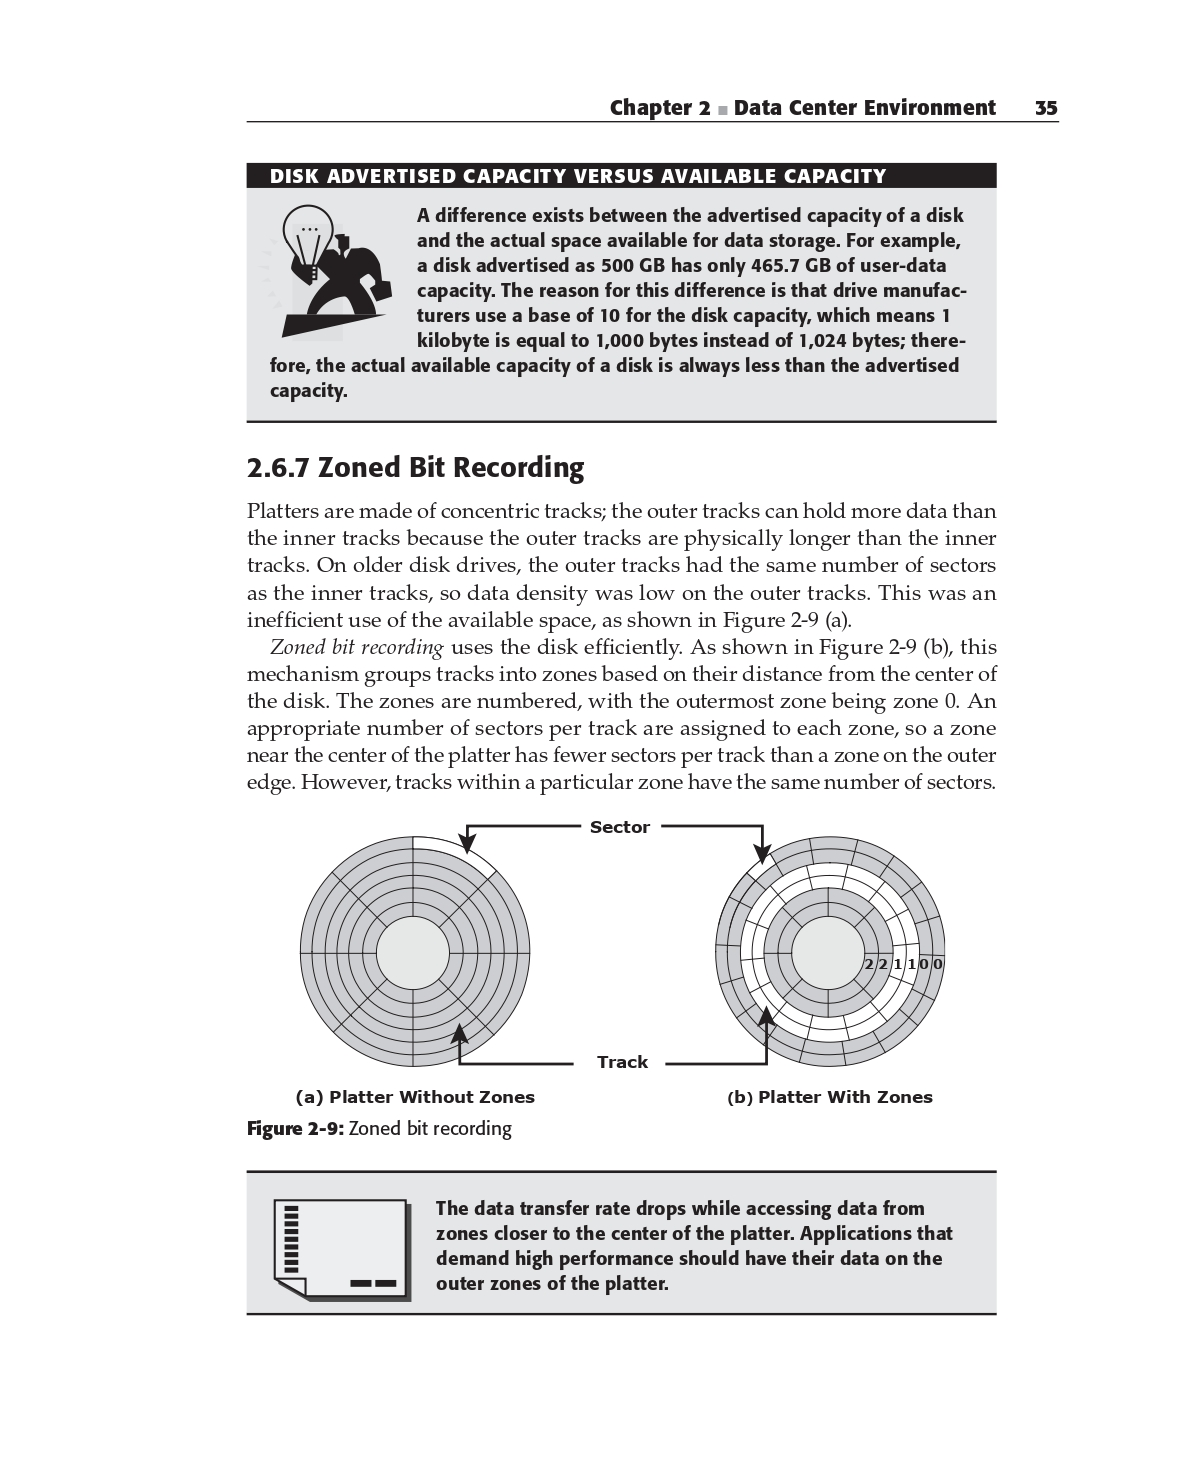Image: (278, 808, 961, 1110), (272, 193, 412, 342), (274, 1185, 427, 1311)
Paragraph: (236, 625, 1001, 804), (234, 497, 996, 630), (421, 199, 976, 354), (433, 1179, 964, 1303), (249, 348, 984, 398), (251, 158, 923, 193), (590, 85, 1066, 122), (240, 452, 599, 487), (234, 1104, 516, 1145)
